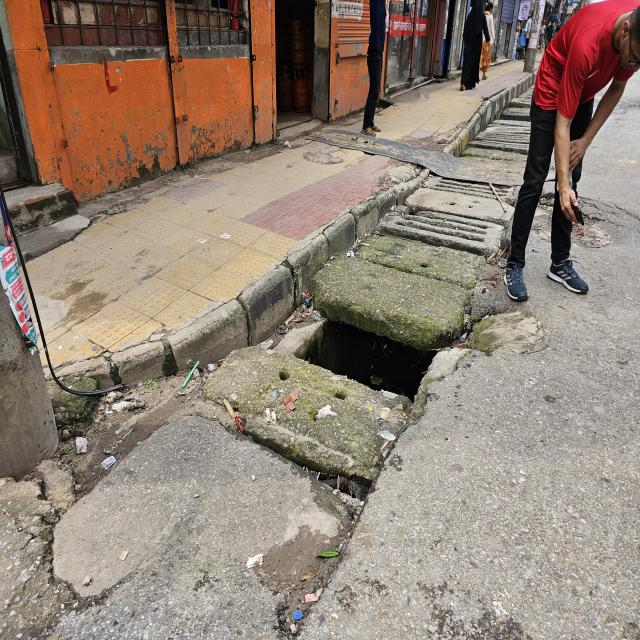drain_inlet: (296, 316, 434, 402)
